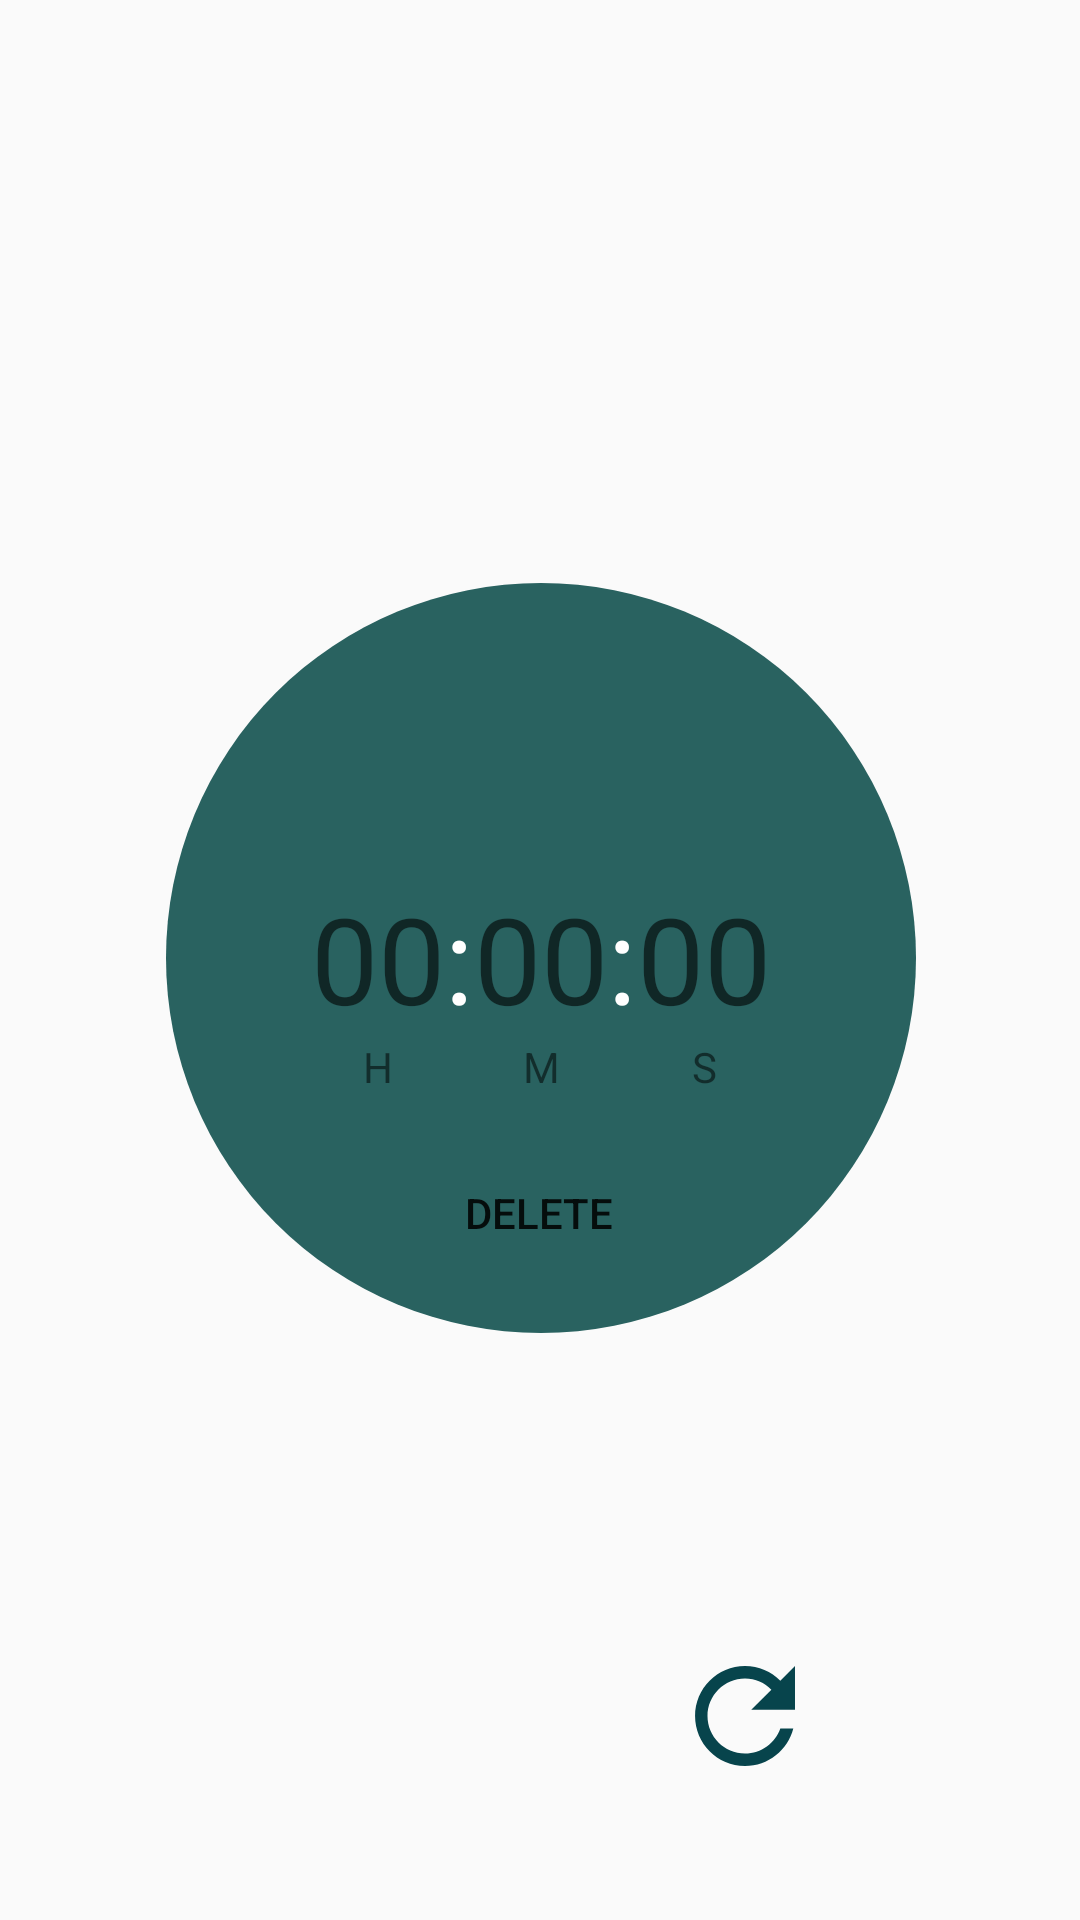

Screen size 1080 x 1920. Icon name, then its box in pixels as (x1, y1, x2, y2):
refresh: (695, 1666, 795, 1766)
